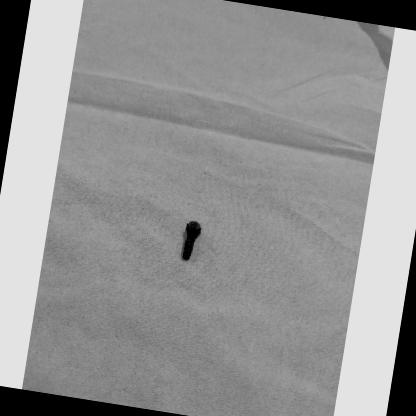sedang: (182, 221, 202, 261)
